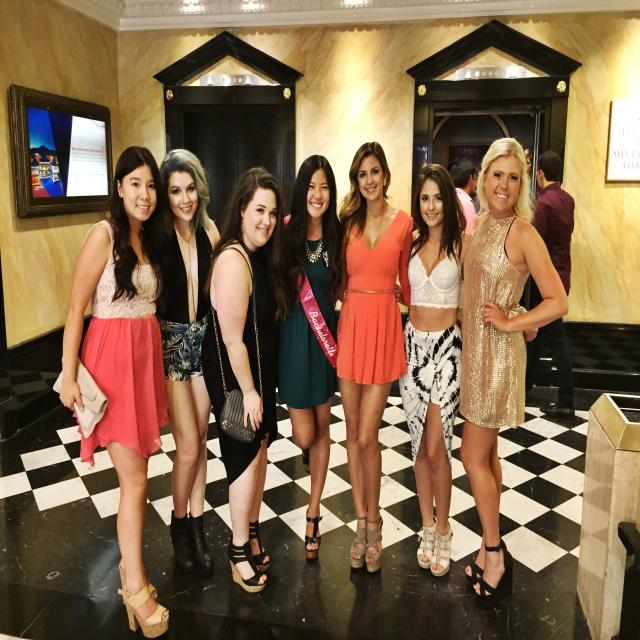body: (341, 163, 540, 579), (49, 143, 172, 640), (457, 136, 570, 601), (272, 152, 402, 552), (203, 161, 293, 599), (334, 140, 414, 574), (148, 148, 222, 565), (523, 147, 580, 419), (447, 134, 486, 236)
